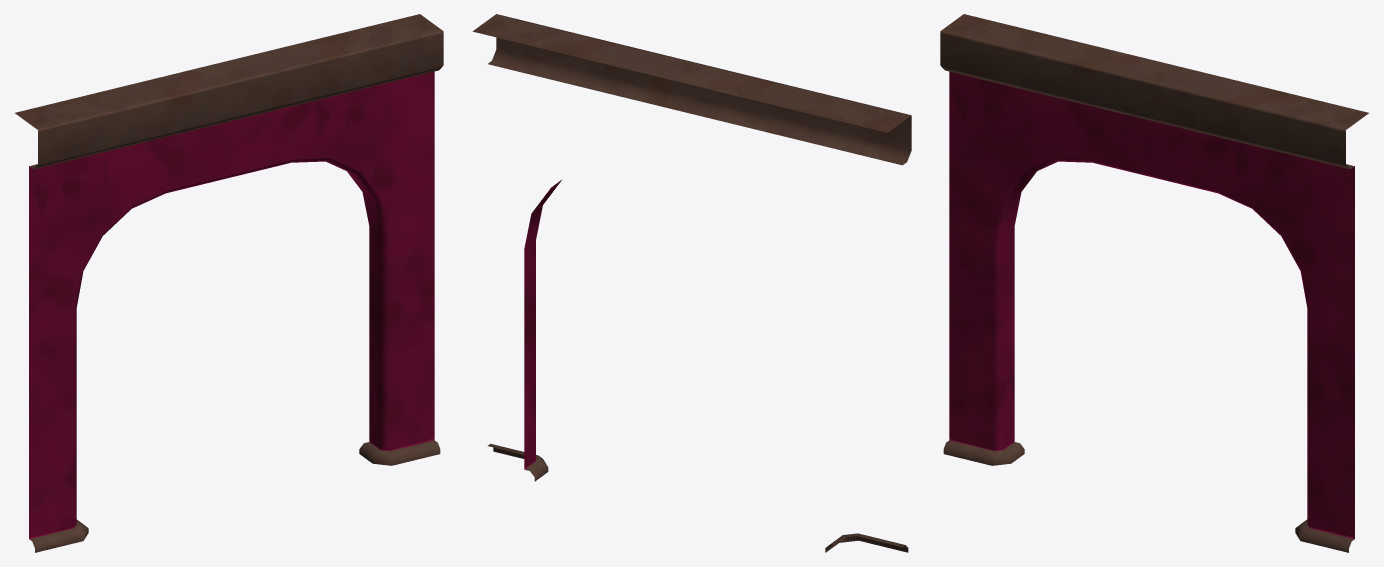
Rendered from SM_Env_Wide_Doorway.fbx.
The picture shows the model from 3 angles, left to right: view 1: azimuth 30°, elevation 25°; view 2: azimuth 150°, elevation 25°; view 3: azimuth 330°, elevation 25°; orthographic projection. The views are drawn at different scales.
Visible parts, largest first — view 1: SM_Env_Wide_Doorway; view 2: SM_Env_Wide_Doorway; view 3: SM_Env_Wide_Doorway.
Boxes of the visible parts, box(x1,y1,x2,y2) form: SM_Env_Wide_Doorway: box(15, 14, 443, 552); SM_Env_Wide_Doorway: box(472, 14, 911, 552); SM_Env_Wide_Doorway: box(940, 14, 1368, 552).
Bounding box in the file's own units: 399 × 400 × 40.
